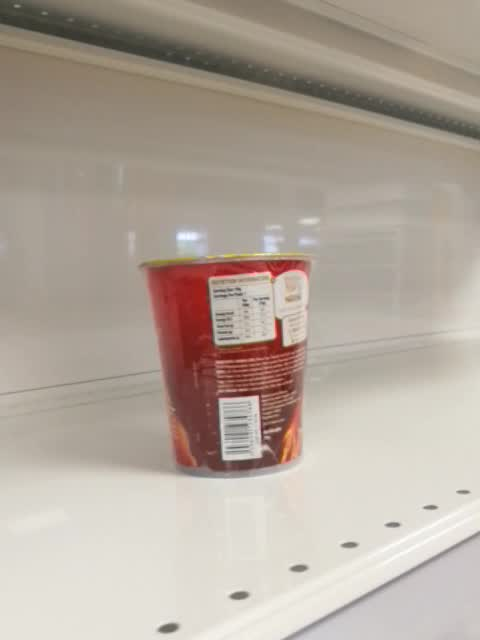maggi: (135, 250, 321, 480)
